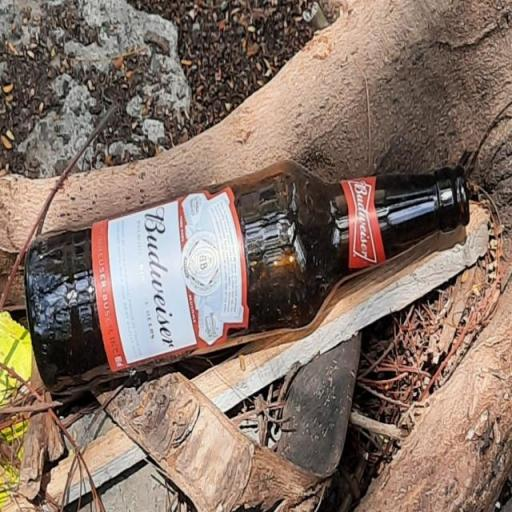glass: (18, 152, 478, 410)
